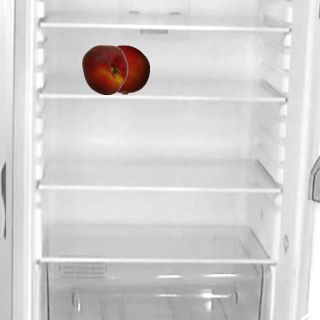Apple Braeburn: (99, 44, 149, 94)
Nectarine Flat: (79, 44, 129, 94)
